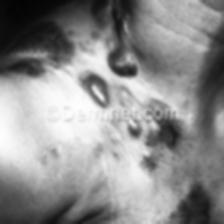Potentially Malignant Skin Tumors: (168, 182, 212, 224), (78, 72, 106, 106), (106, 47, 138, 76), (144, 120, 176, 148), (106, 0, 130, 35), (9, 58, 45, 76), (128, 120, 141, 136)
